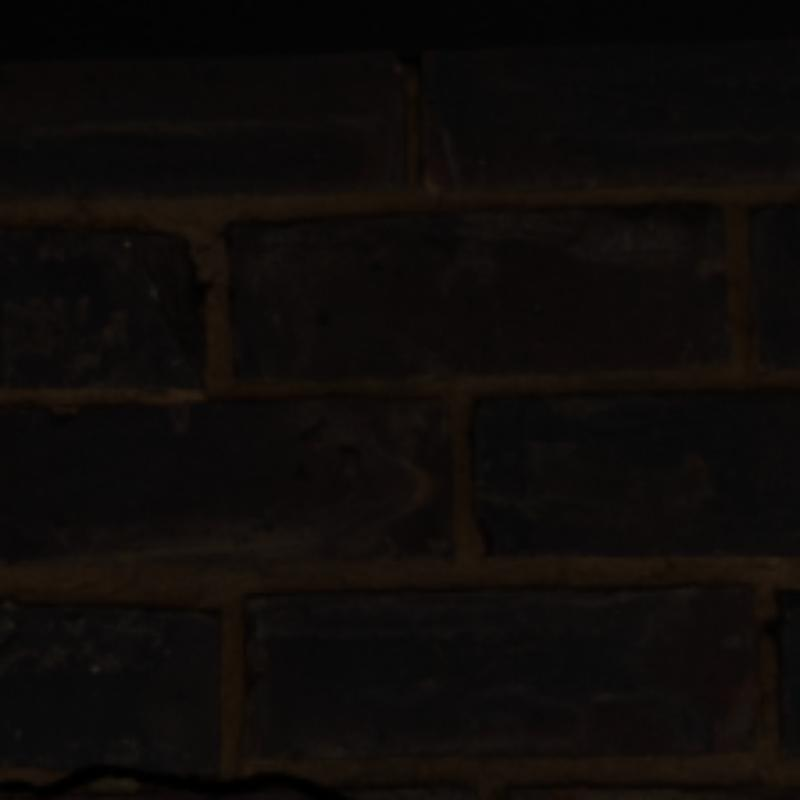crack: (0, 764, 346, 796)
